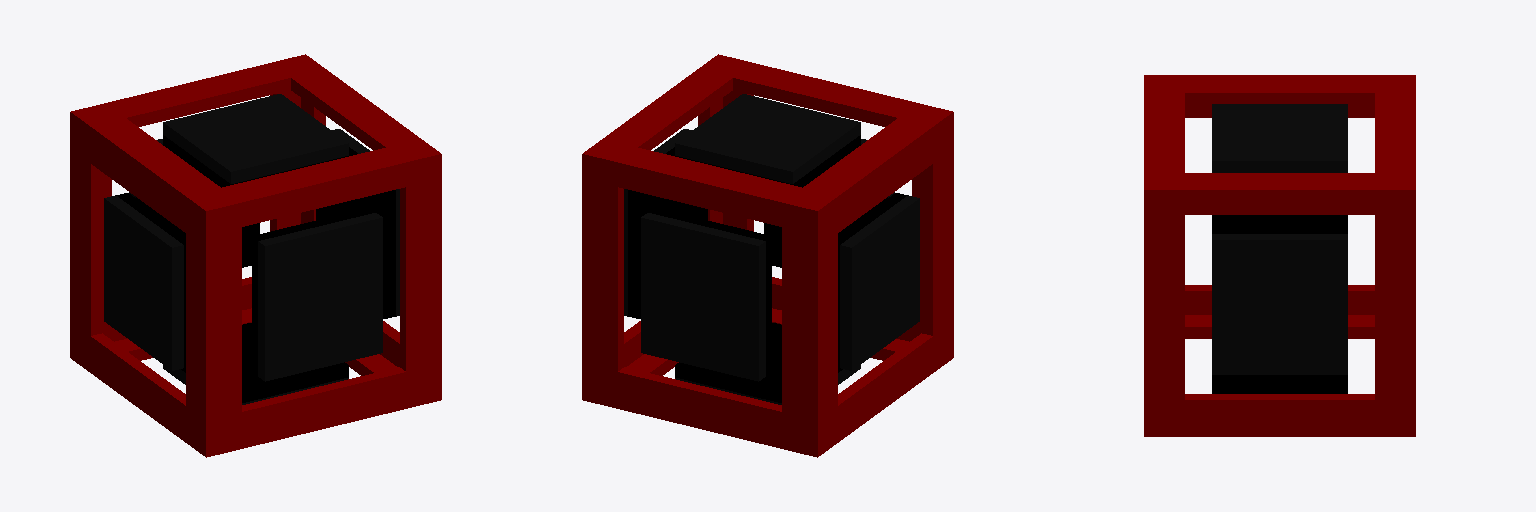
3 renders of one model, left to right at view 1: azimuth 30°, elevation 25°; view 2: azimuth 150°, elevation 25°; view 3: azimuth 270°, elevation 25°, orthographic.
Visible parts, largest first — view 1: object 1; view 2: object 1; view 3: object 1.
Boxes of the visible parts, box(x1,y1,x2,y2) form: object 1: box(70, 54, 441, 457); object 1: box(582, 54, 953, 457); object 1: box(1144, 75, 1415, 436).
Bounding box in the file's own units: 2 × 2 × 2.
1 materials, 1 textured.